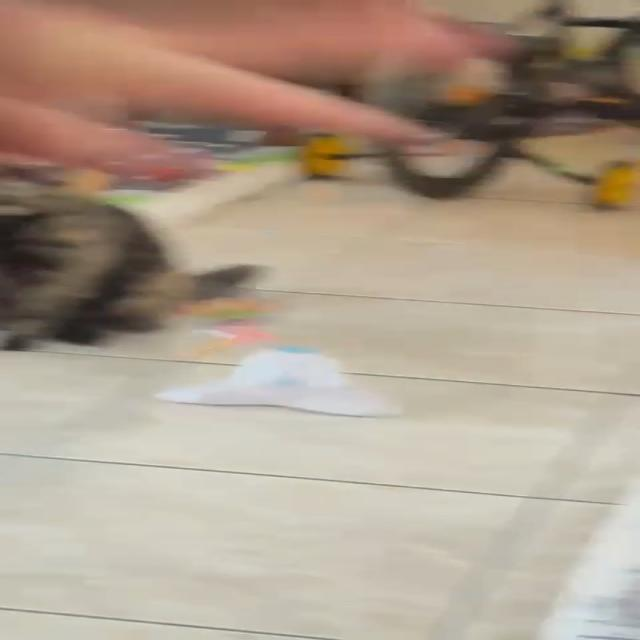authorized: (0, 175, 269, 351)
